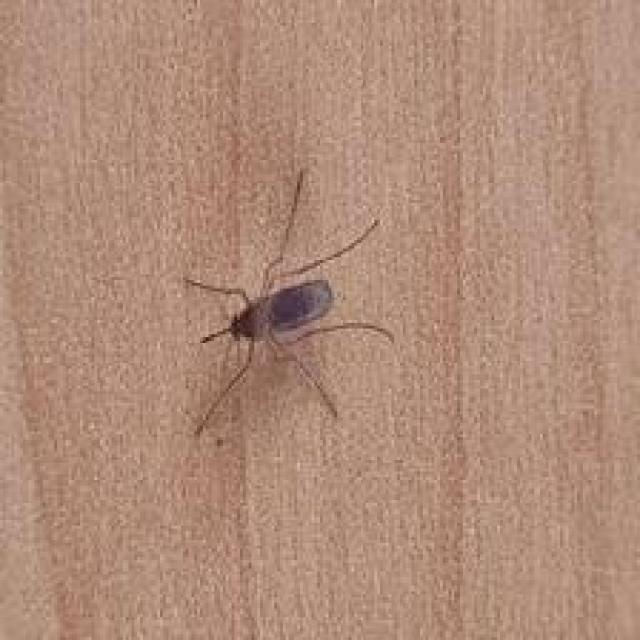Culex: (181, 166, 396, 440)
